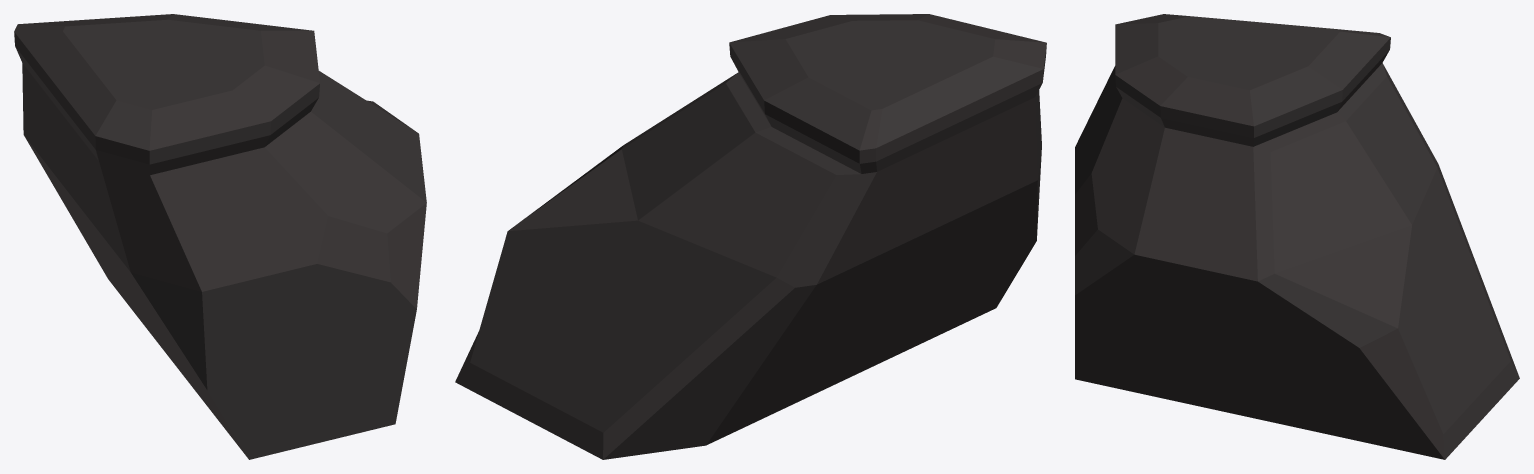
The model's file is Stone_01.glb.
3 renders of one model, left to right at view 1: azimuth 30°, elevation 25°; view 2: azimuth 150°, elevation 25°; view 3: azimuth 270°, elevation 25°, orthographic. The views are drawn at different scales.
Parts seen in each view (by area): view 1: Stone_01; view 2: Stone_01; view 3: Stone_01.
Boxes of the visible parts, x1=… form: Stone_01: x1=14, y1=14, x2=426, y2=459; Stone_01: x1=455, y1=14, x2=1046, y2=459; Stone_01: x1=1075, y1=14, x2=1519, y2=459.
Size of what is drawn, in the model's own units: 0.9892 by 0.6954 by 1.02.
1 material, 1 textured.
